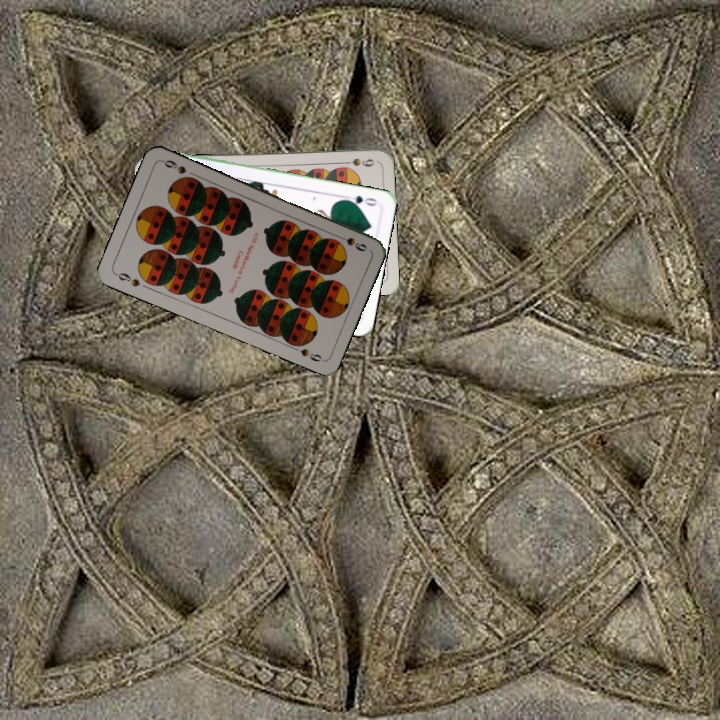GO: (339, 191, 380, 209)
S9: (332, 230, 369, 254), (111, 269, 142, 289), (337, 154, 377, 169)
